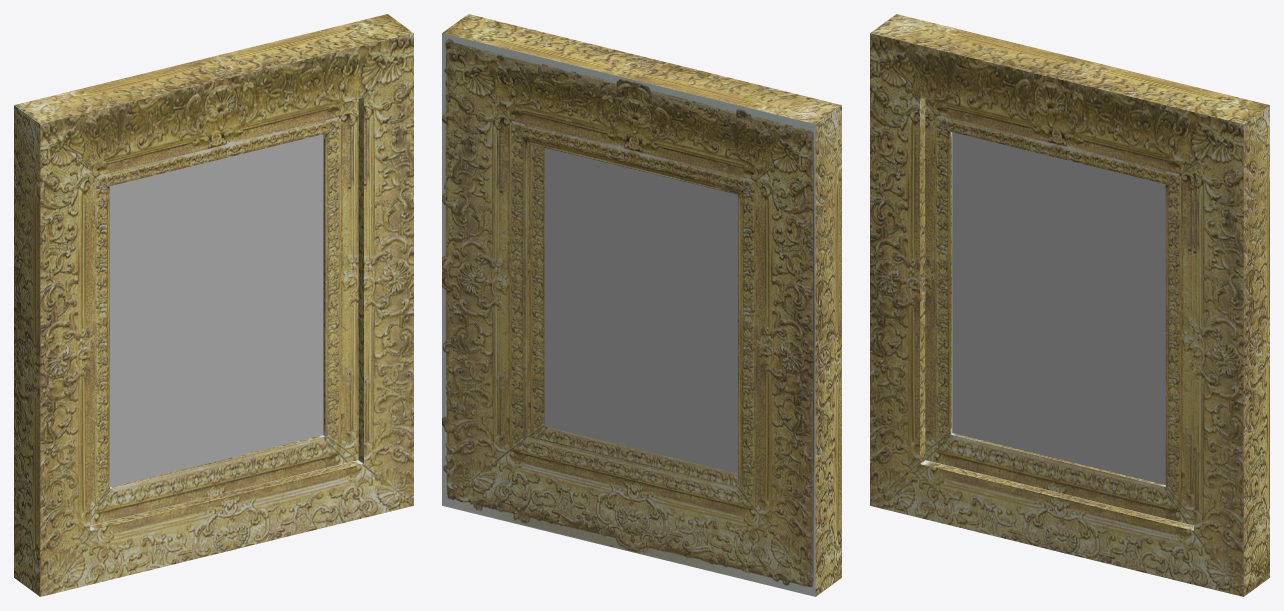
File: art3.fbx
3 views of the same model, side by side, from view 1: azimuth 30°, elevation 25°; view 2: azimuth 150°, elevation 25°; view 3: azimuth 330°, elevation 25° (orthographic).
Parts seen in each view (by area): view 1: cadre_bandinelli, peinture_bandinelli; view 2: cadre_bandinelli, peinture_bandinelli; view 3: cadre_bandinelli, peinture_bandinelli.
Part boxes in pixels (x1=…): cadre_bandinelli: x1=14, y1=14, x2=413, y2=596; peinture_bandinelli: x1=110, y1=134, x2=323, y2=486; cadre_bandinelli: x1=442, y1=14, x2=841, y2=596; peinture_bandinelli: x1=544, y1=148, x2=737, y2=473; cadre_bandinelli: x1=870, y1=14, x2=1269, y2=596; peinture_bandinelli: x1=952, y1=132, x2=1165, y2=484.
Size of the model in its own units: 400 by 483 by 48.6.
